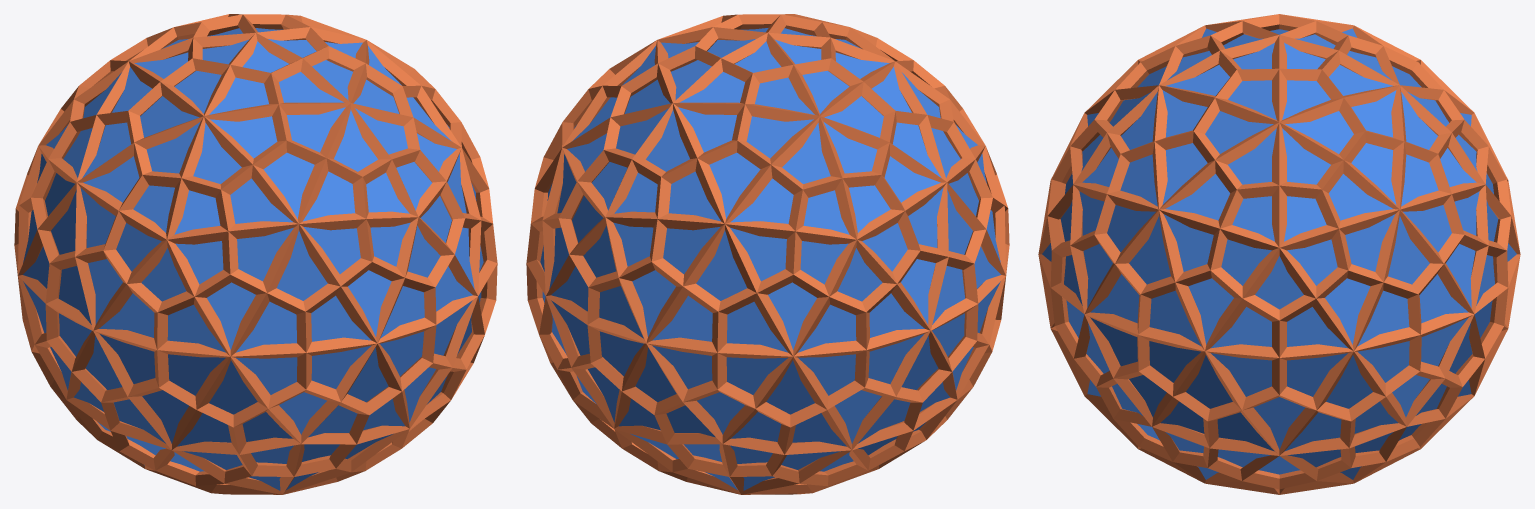
Rendered from wireSphereSmall.fbx.
3 views of the same model, side by side, from view 1: azimuth 30°, elevation 25°; view 2: azimuth 150°, elevation 25°; view 3: azimuth 270°, elevation 25° (orthographic).
Visible parts, largest first — view 1: Icosphere, Icosphere.001; view 2: Icosphere, Icosphere.001; view 3: Icosphere, Icosphere.001.
Part boxes in pixels (x1=…): Icosphere: x1=14, y1=14, x2=497, y2=494; Icosphere.001: x1=23, y1=28, x2=483, y2=490; Icosphere: x1=526, y1=14, x2=1009, y2=494; Icosphere.001: x1=540, y1=28, x2=1000, y2=490; Icosphere: x1=1038, y1=14, x2=1520, y2=494; Icosphere.001: x1=1042, y1=28, x2=1516, y2=479.
Bounding box in the file's own units: 191 × 192 × 191.
